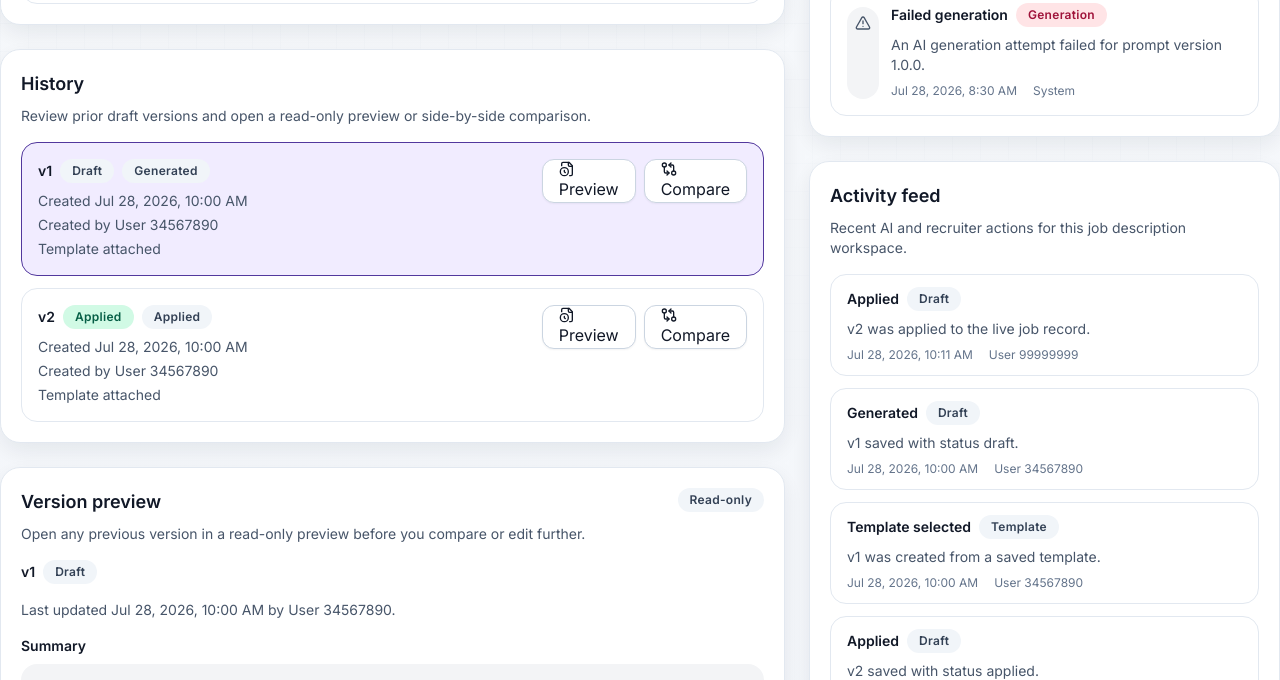
Test: RecruiterAiJobDescriptionPanel › switches preview when a history version is selected
This screenshot has width=1280, height=680.
(page scrolled)
Click the 2nd button "Preview" at (589, 327), box [542,305,636,349]
(page scrolled)
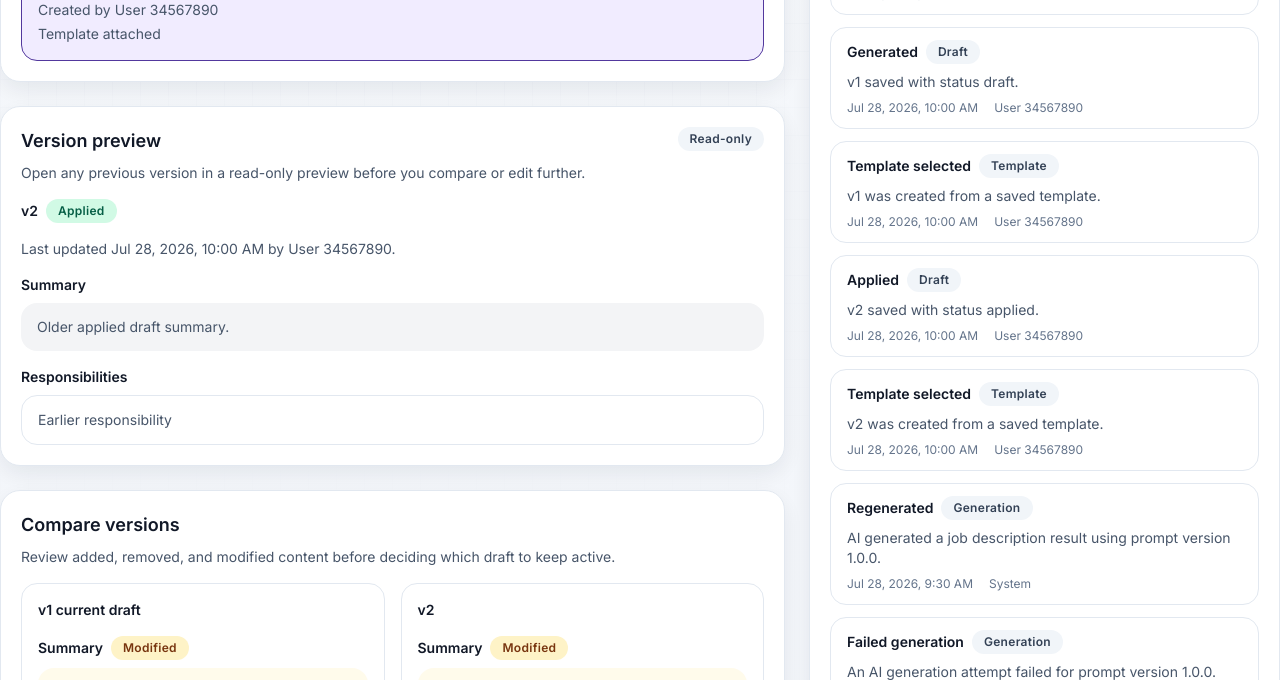
Check: the text "Older applied draft summary." below "Last updated" is shown, box [37,318,229,335]
